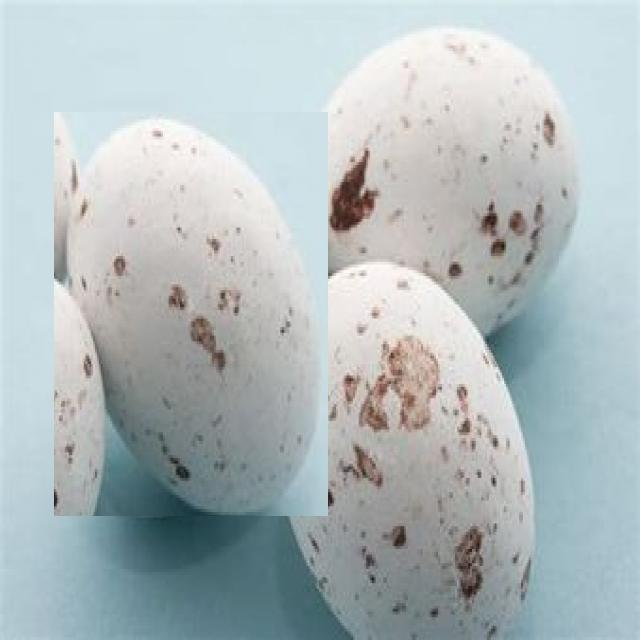Egg: (54, 112, 328, 516)
